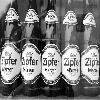beer: (21, 1, 44, 99)
